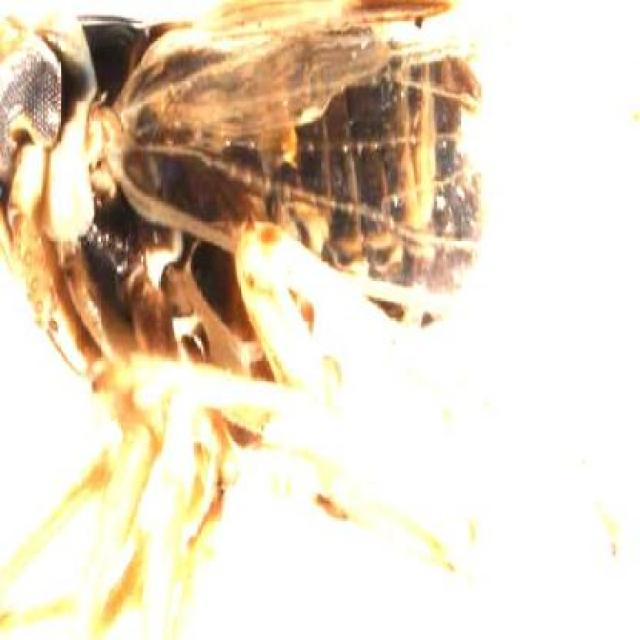brown-planthopper: (2, 10, 612, 513)
